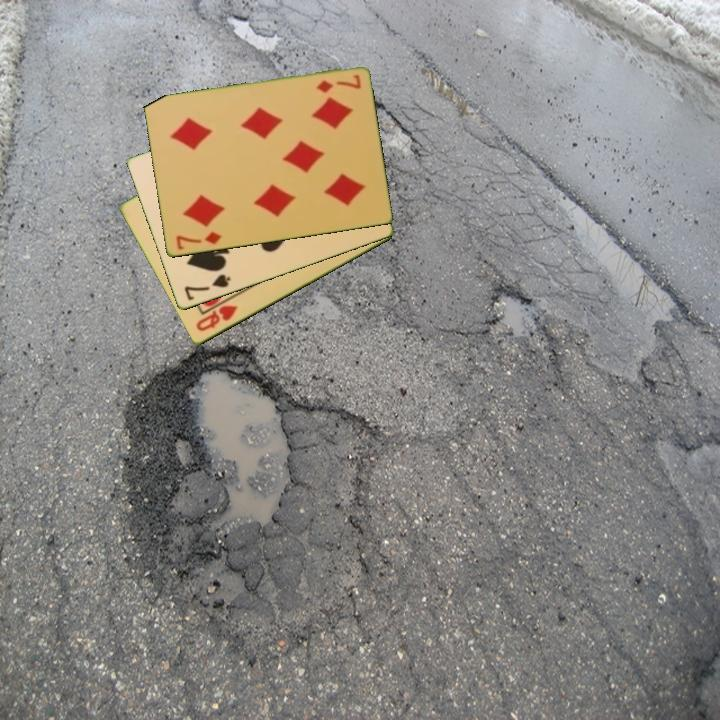7d: (172, 228, 224, 253), (312, 71, 363, 96)
7s: (181, 271, 233, 304)
Qh: (192, 302, 241, 335)
